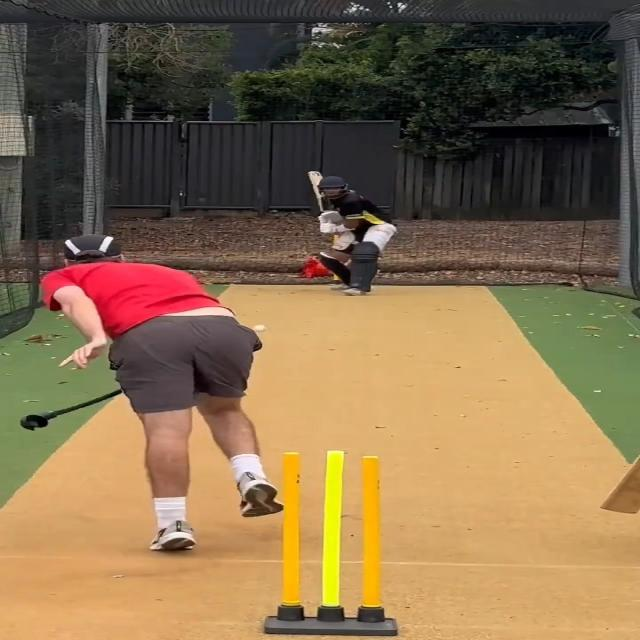ball: (253, 325, 268, 333)
stump: (266, 450, 398, 637)
